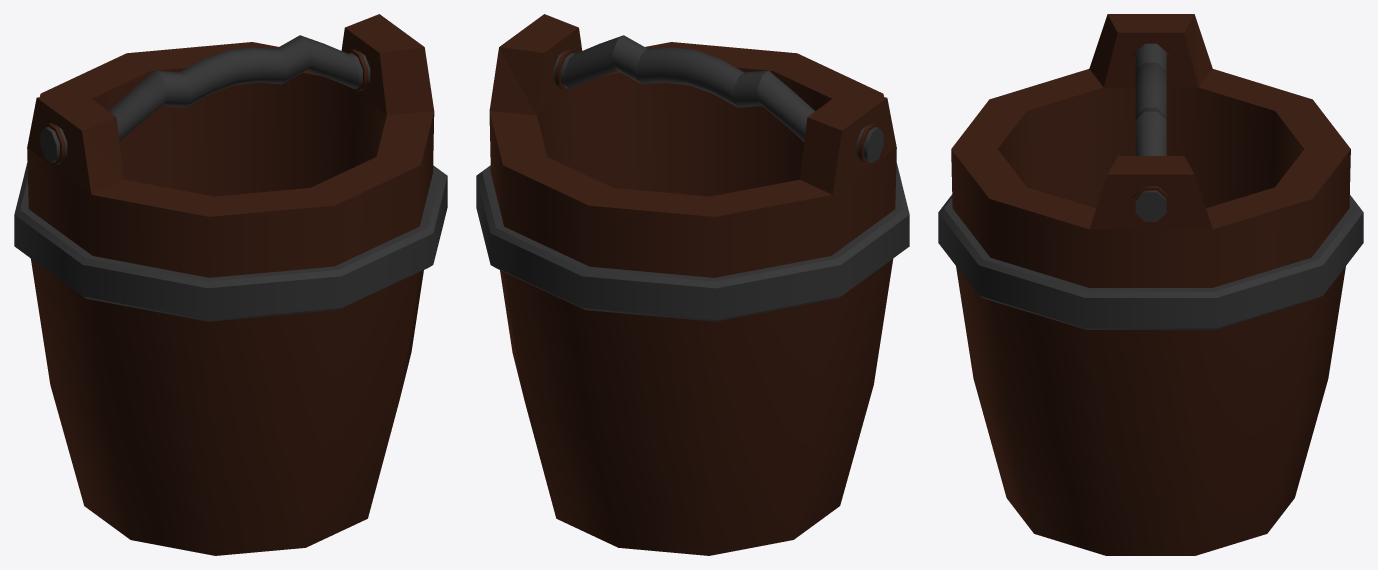
The model's file is updated-bucket.FBX.
3 renders of one model, left to right at view 1: azimuth 30°, elevation 25°; view 2: azimuth 150°, elevation 25°; view 3: azimuth 270°, elevation 25°, orthographic. The views are drawn at different scales.
Visible parts, largest first — view 1: bucket; view 2: bucket; view 3: bucket.
Part boxes in pixels (<box>): bucket: <box>14,14,447,555</box>; bucket: <box>476,14,909,555</box>; bucket: <box>938,14,1363,555</box>.
Bounding box in the file's own units: 22.14 × 25.53 × 23.27.
